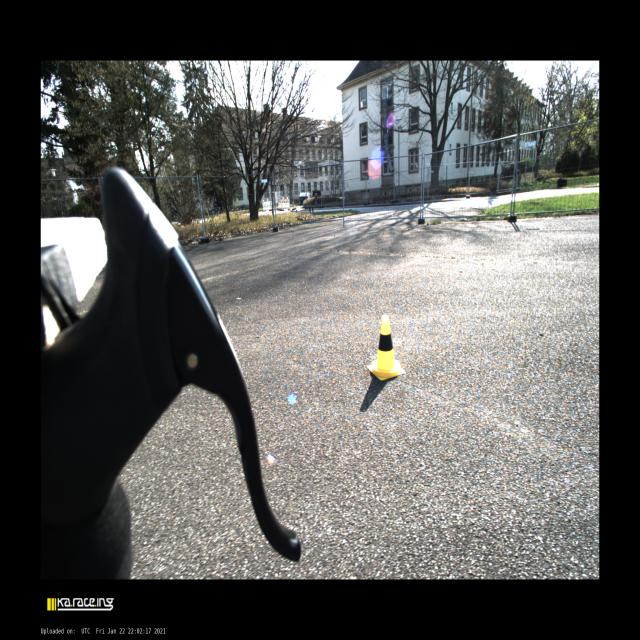yellow_cone: (368, 315, 406, 380)
